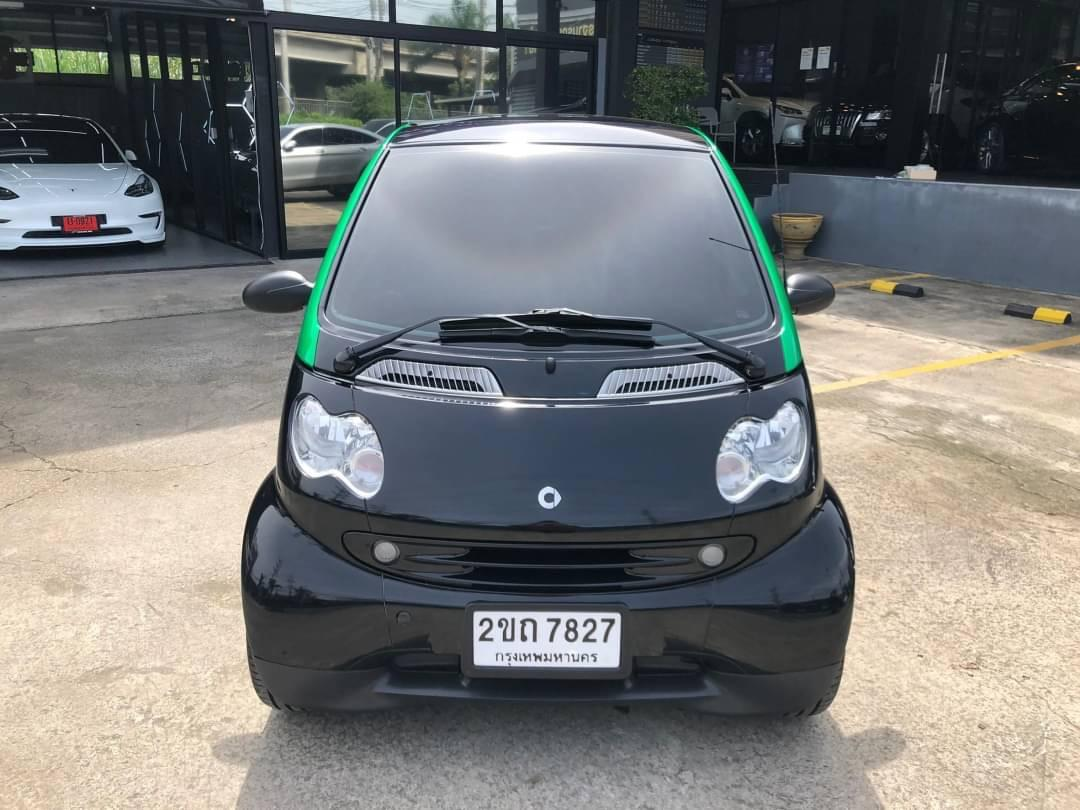license-plate: (460, 597, 632, 681)
